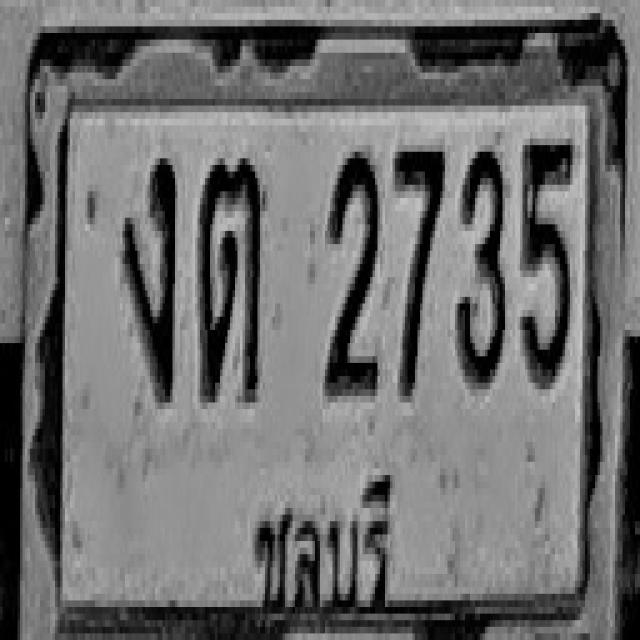16NgorNgu: (122, 152, 176, 402)
2: (324, 145, 378, 396)
3: (455, 148, 505, 386)
30TorTao: (198, 152, 264, 402)
5: (520, 135, 572, 386)
7: (393, 145, 445, 396)
Chonburi: (252, 457, 402, 622)
